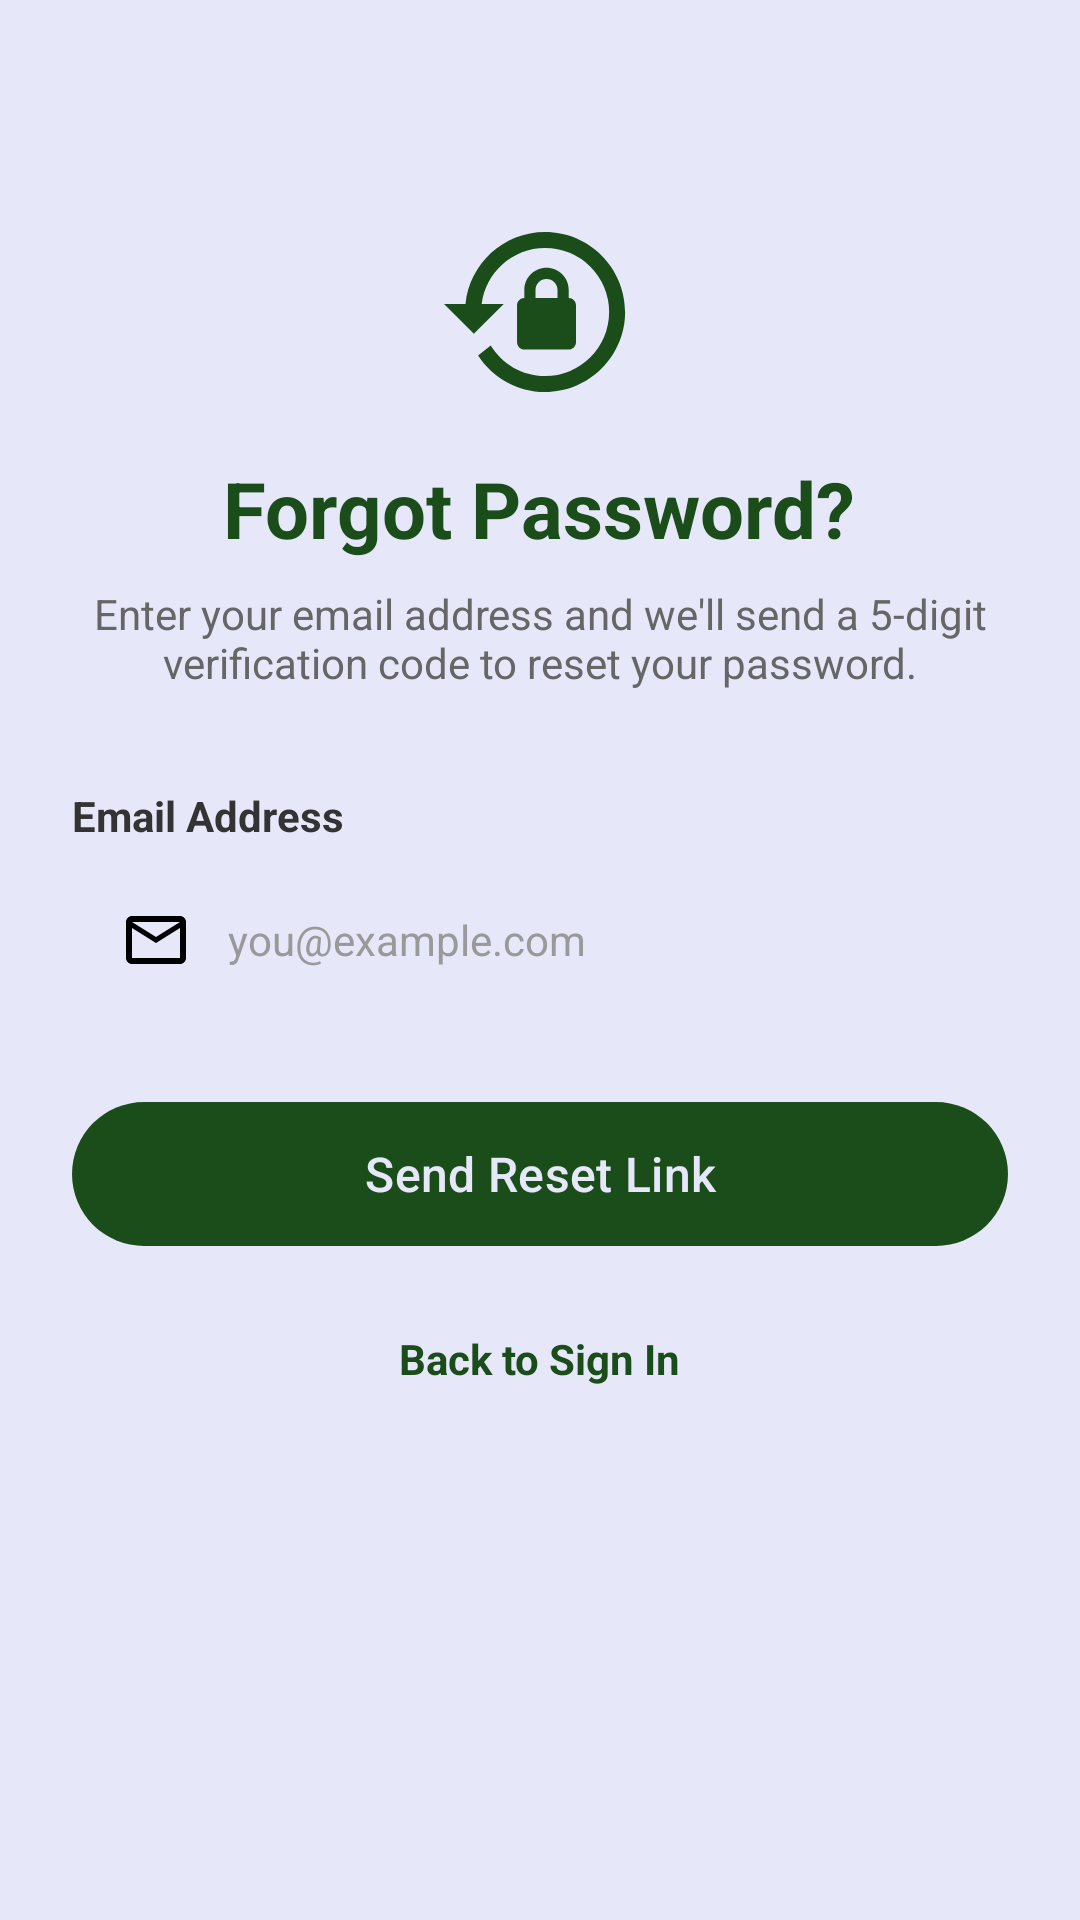

Icon bounding boxes for this 1080w x 1920h phone screenshot, format (x1,y1,x2,y2):
Reset Password Icon: (444,232,625,392)
